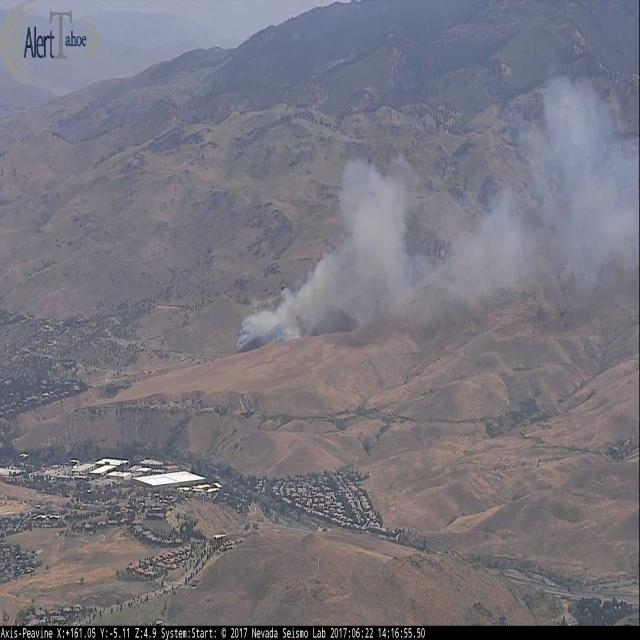smoke: (236, 74, 640, 360)
